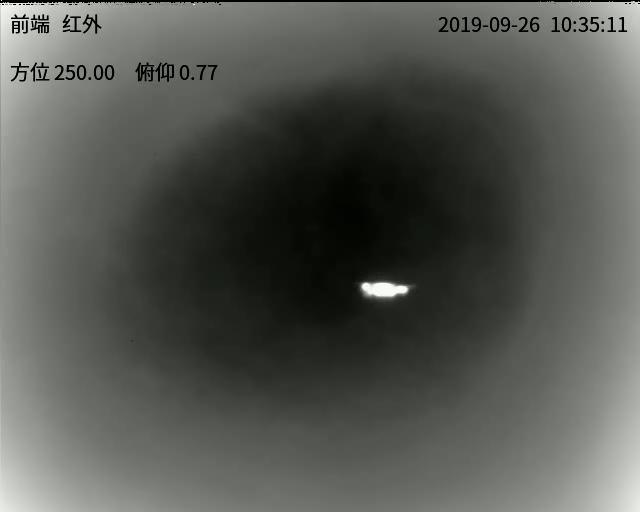uav: (358, 274, 421, 302)
